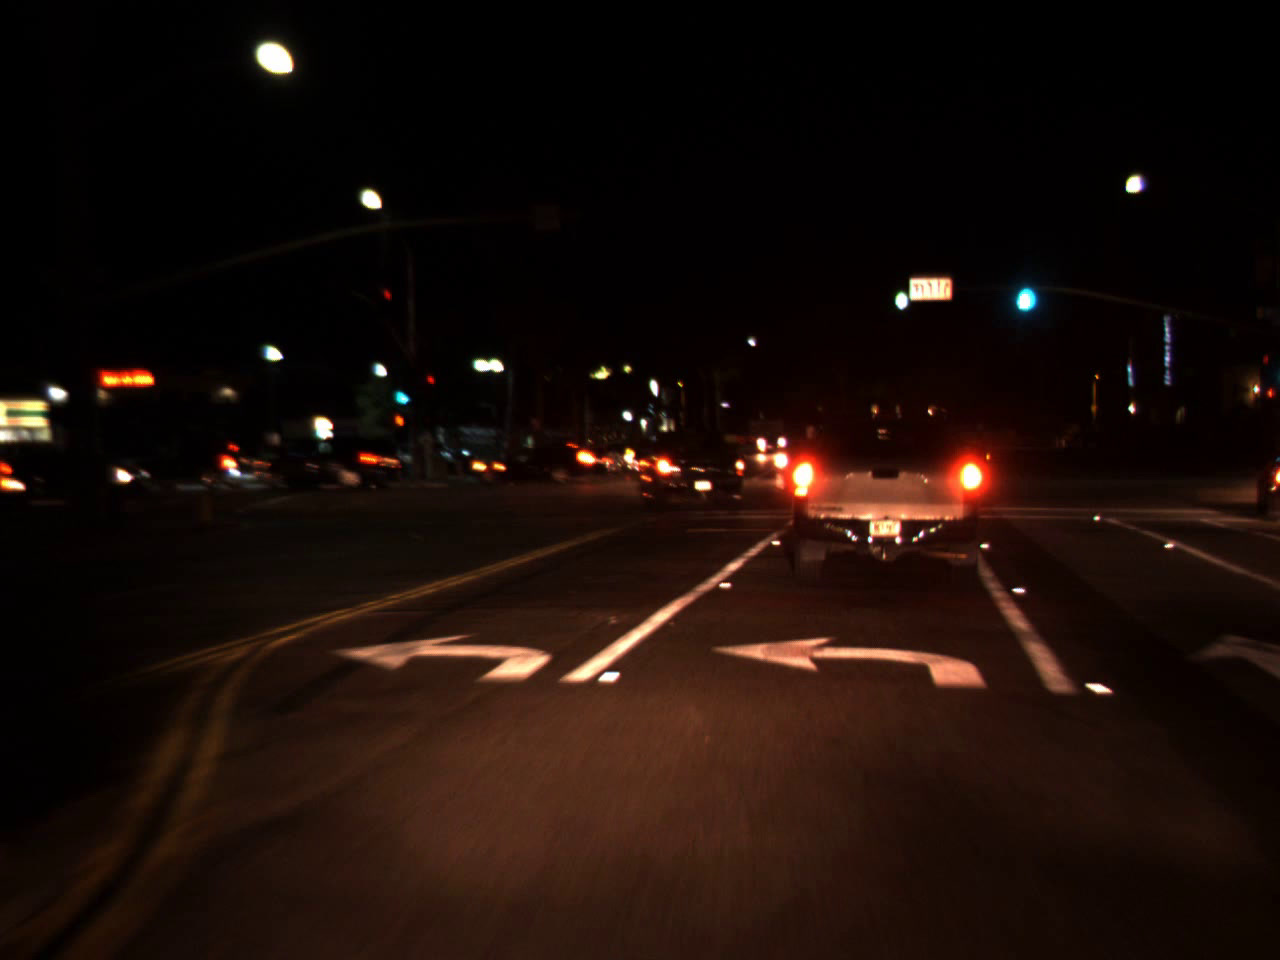go: (1008, 257, 1040, 320), (890, 273, 909, 315), (391, 378, 410, 408)
